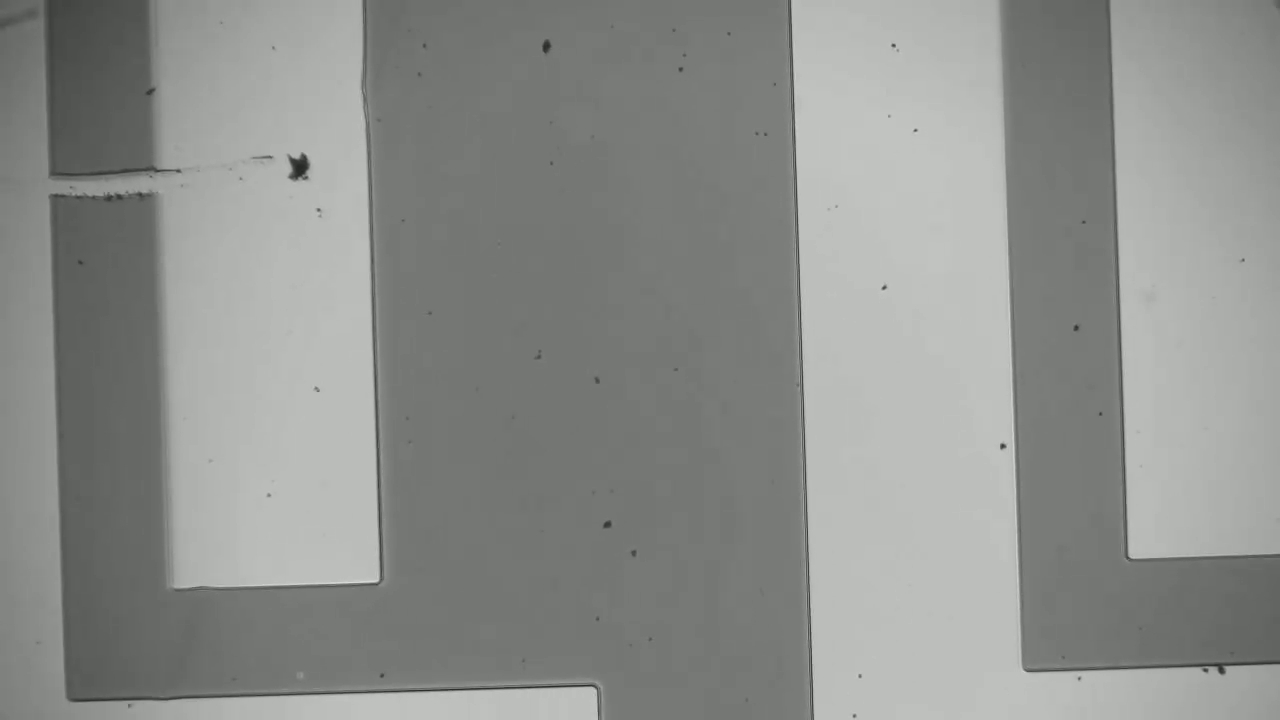Short_circuit: (30, 155, 179, 221)
